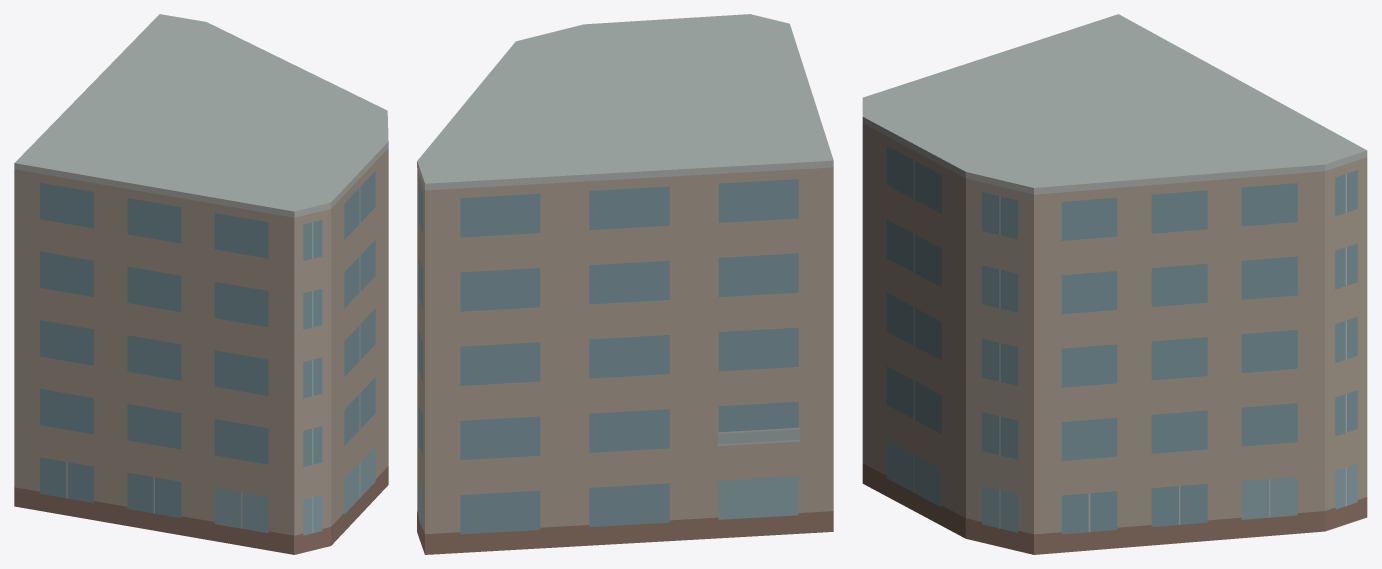
File: survey-upis-32705021.glb
3 views of the same model, side by side, from view 1: azimuth 30°, elevation 25°; view 2: azimuth 150°, elevation 25°; view 3: azimuth 270°, elevation 25° (orthographic). The views are drawn at different scales.
Parts seen in each view (by area): view 1: survey-upis-32705021.tmp; view 2: survey-upis-32705021.tmp; view 3: survey-upis-32705021.tmp.
Part boxes in pixels (x1,y1,x2,y2): survey-upis-32705021.tmp: (14, 14, 388, 554); survey-upis-32705021.tmp: (417, 14, 833, 554); survey-upis-32705021.tmp: (862, 14, 1367, 554).
Size of the model in its own units: 13.74 by 13.5 by 16.84.
